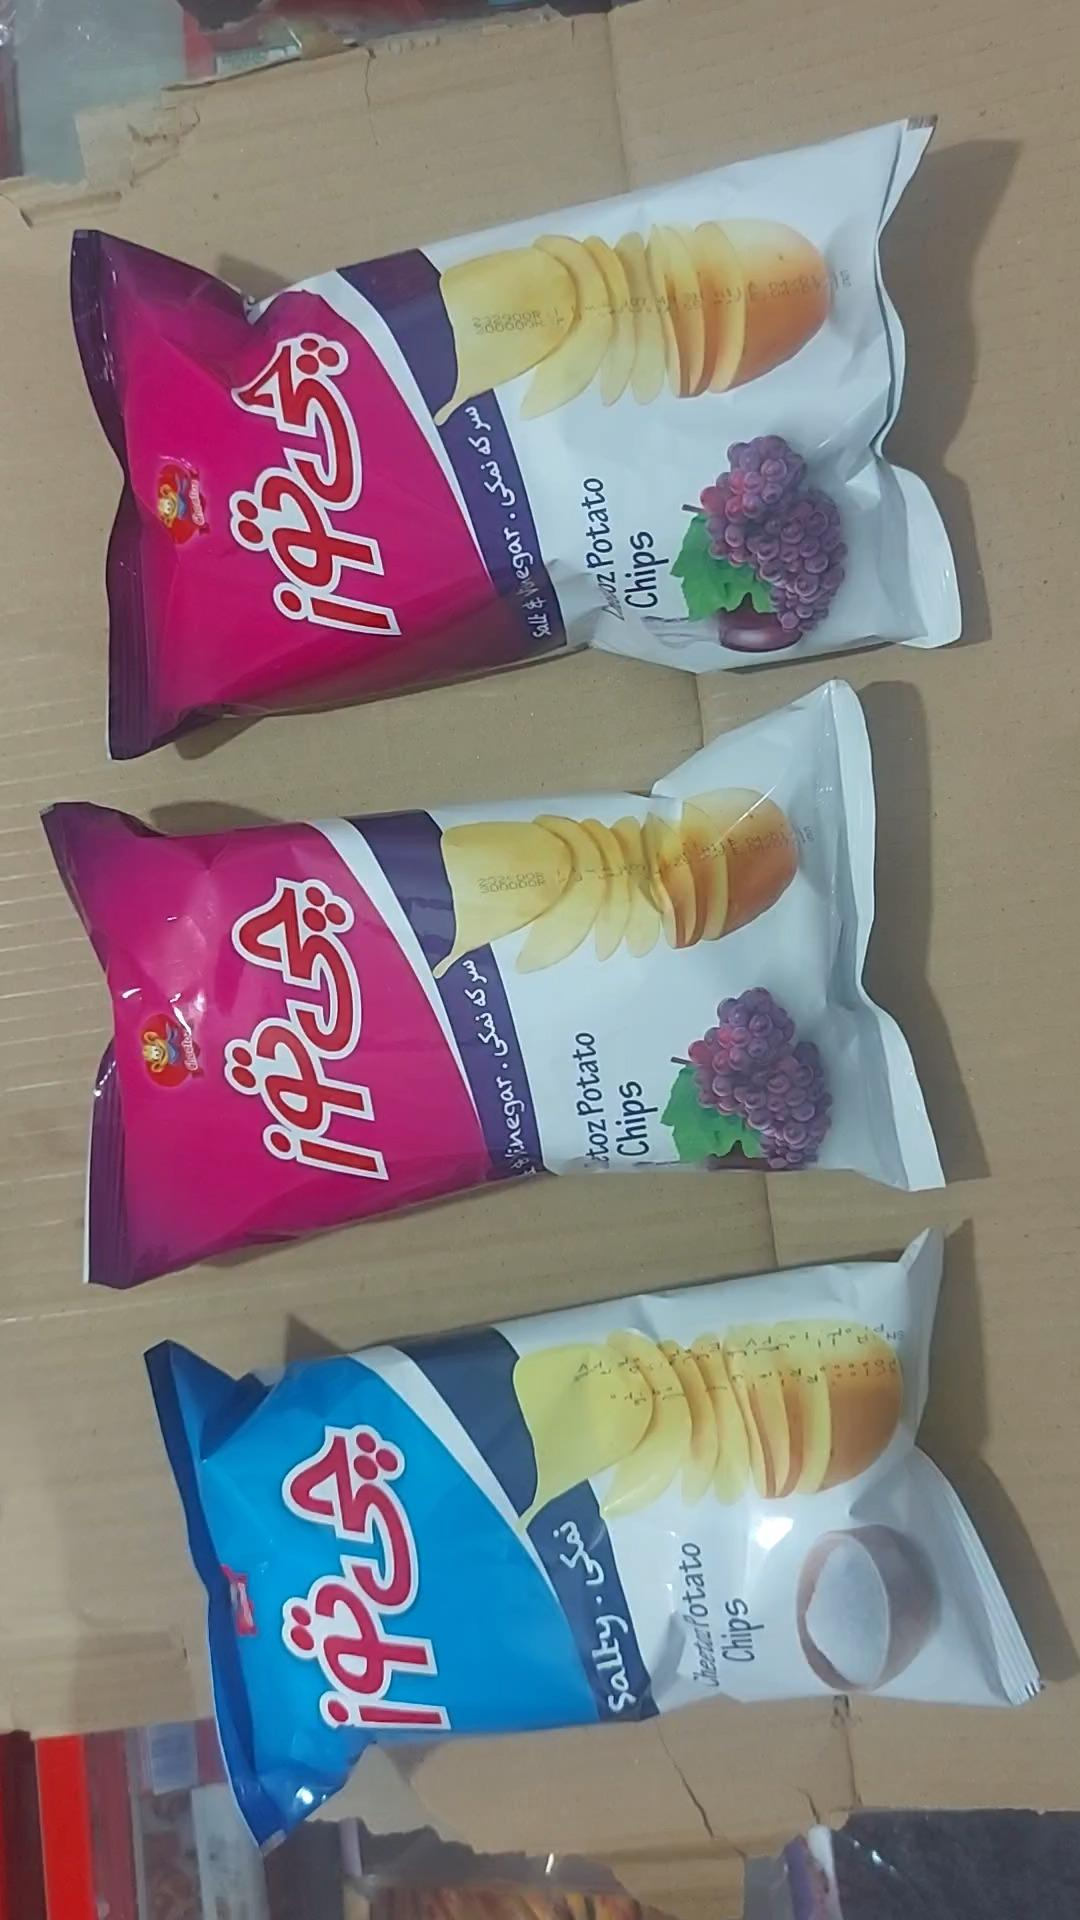Cheetoz salty chips: (146, 1233, 1040, 1838)
Cheetoz vinegar chips: (70, 123, 960, 760), (44, 686, 942, 1286)
